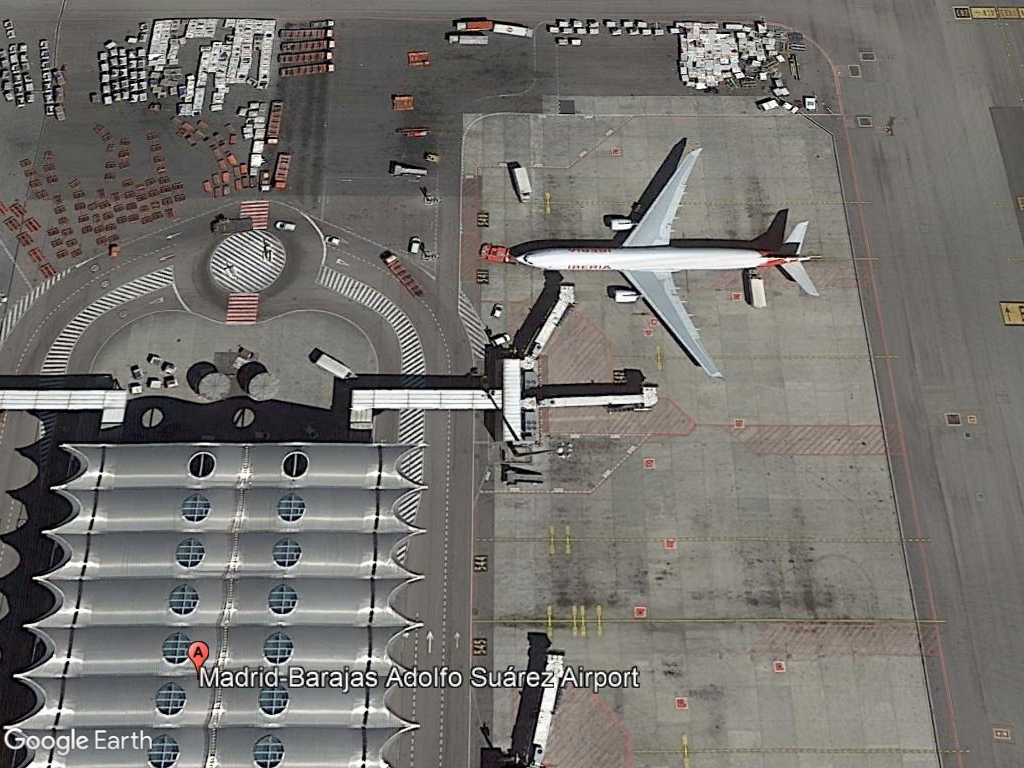airliner: (511, 143, 828, 385)
stairtruck: (387, 160, 431, 181)
truck: (509, 165, 536, 206), (488, 18, 535, 39), (445, 32, 492, 48)
